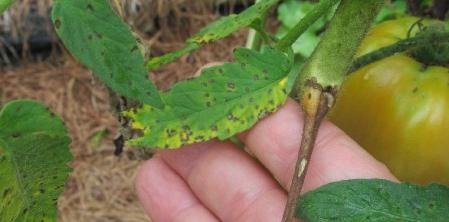Tomato Septoria leaf spot: (120, 46, 299, 155), (55, 0, 171, 113), (0, 97, 73, 222), (297, 175, 449, 222)
